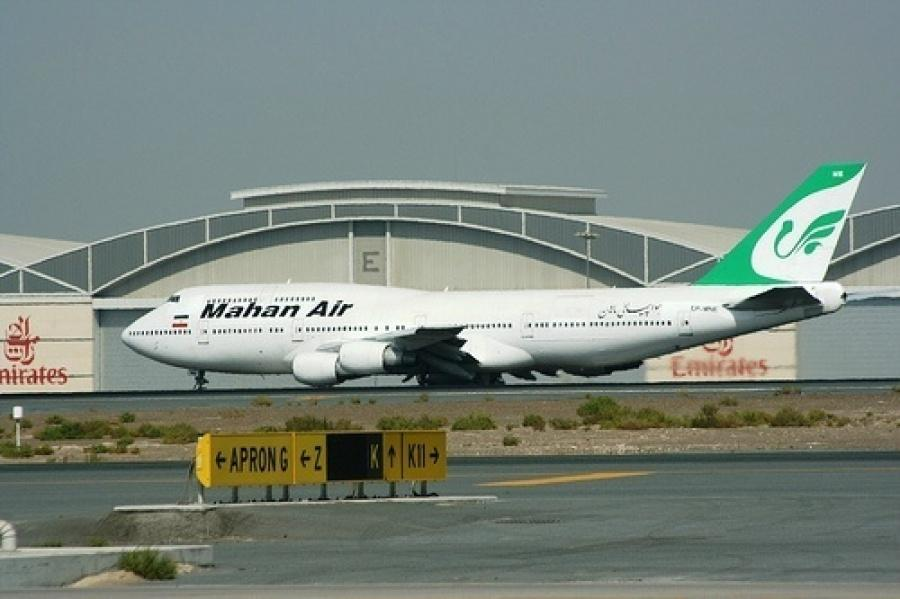airplane: (111, 158, 880, 400)
